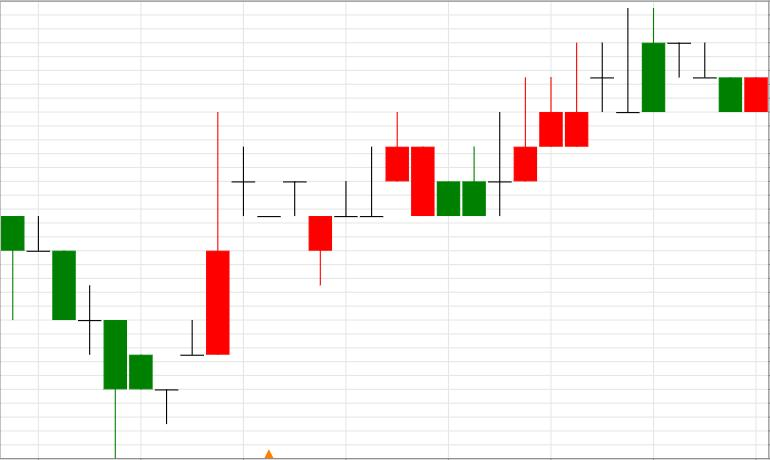shooting_star_fall: (437, 78, 538, 217)
